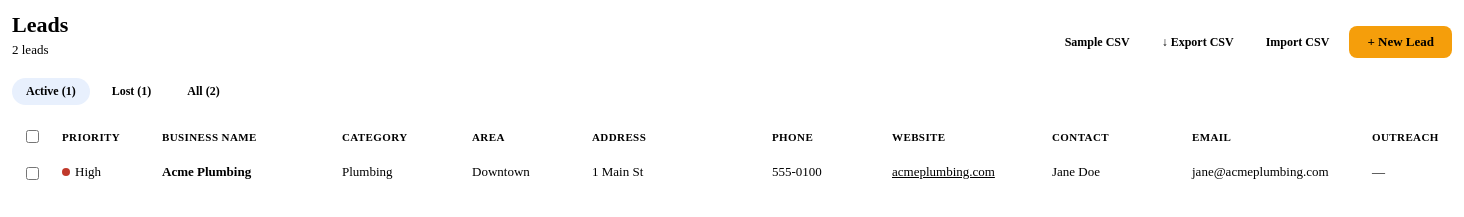
Test case: switching to the Lost tab shows lost leads
The width and height of the screenshot is (1464, 217).
Check: the text "Acme Plumbing" is shown, box [152,155,332,200]
Click the button "Lost (1)" at (132, 92), box [98,78,165,105]
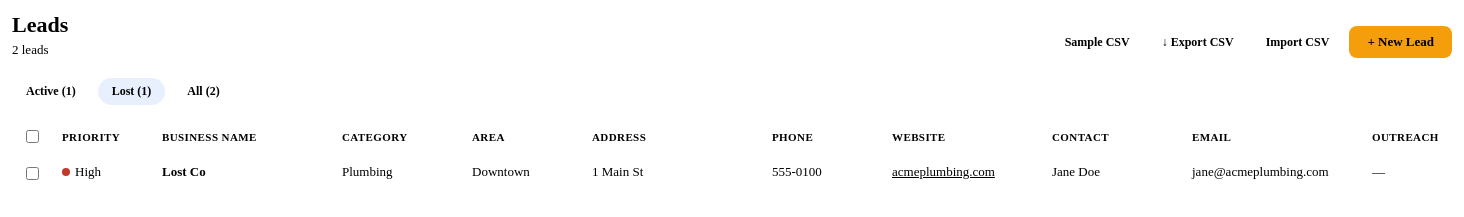
Check: the text "Lost Co" is shown, box [152,155,332,200]
Check: the text "Acme Plumbing" is gone
